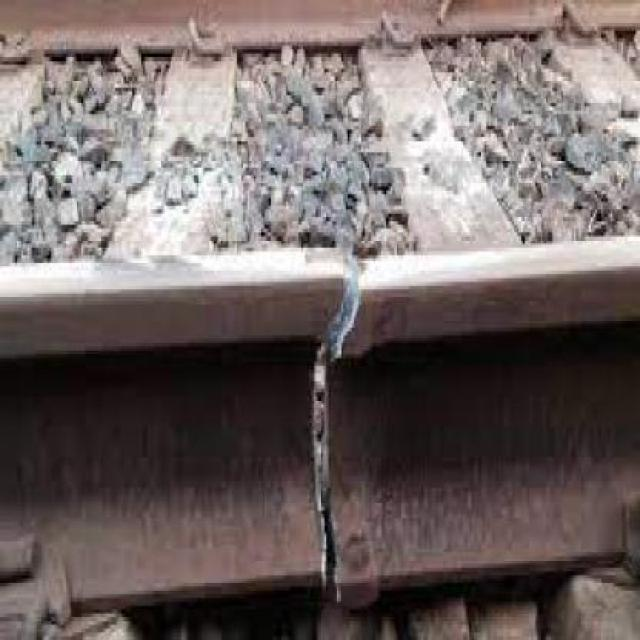defective: (189, 223, 467, 636)
